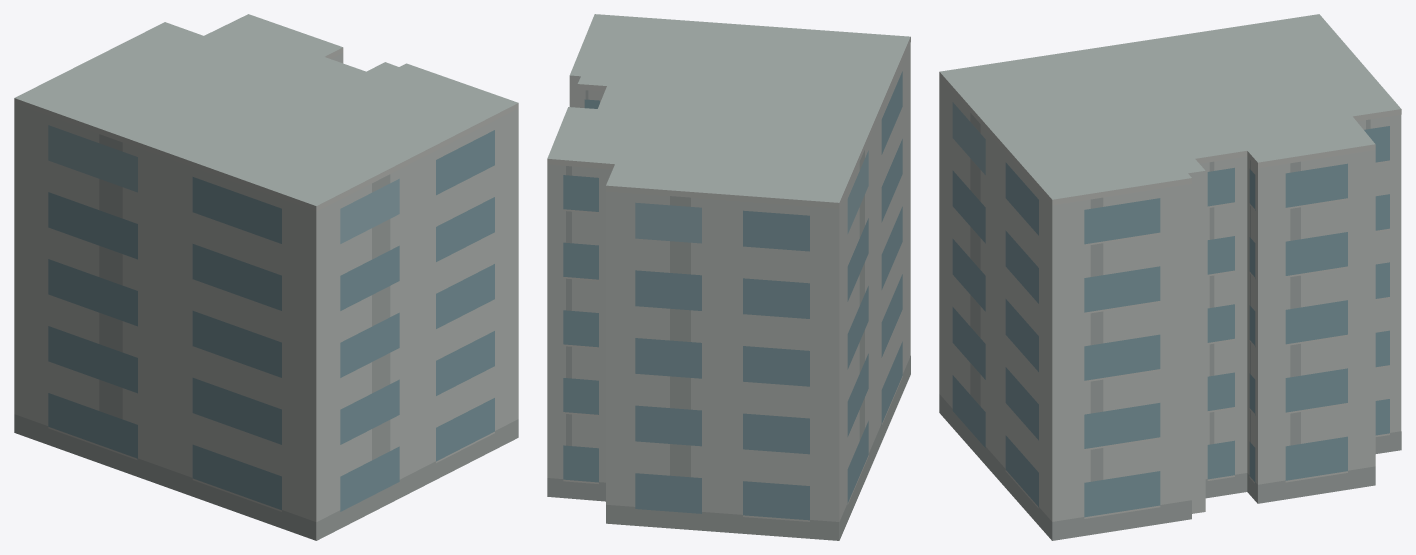
File: survey-upis-32856916.glb
3 renders of one model, left to right at view 1: azimuth 30°, elevation 25°; view 2: azimuth 150°, elevation 25°; view 3: azimuth 270°, elevation 25°, orthographic.
Parts seen in each view (by area): view 1: survey-upis-32856916.tmp; view 2: survey-upis-32856916.tmp; view 3: survey-upis-32856916.tmp.
Boxes of the visible parts, bbox=[...] form: survey-upis-32856916.tmp: bbox=[14, 14, 518, 540]; survey-upis-32856916.tmp: bbox=[547, 14, 910, 540]; survey-upis-32856916.tmp: bbox=[939, 14, 1401, 540].
Size of the model in its own units: 16.91 by 14.48 by 17.78.
